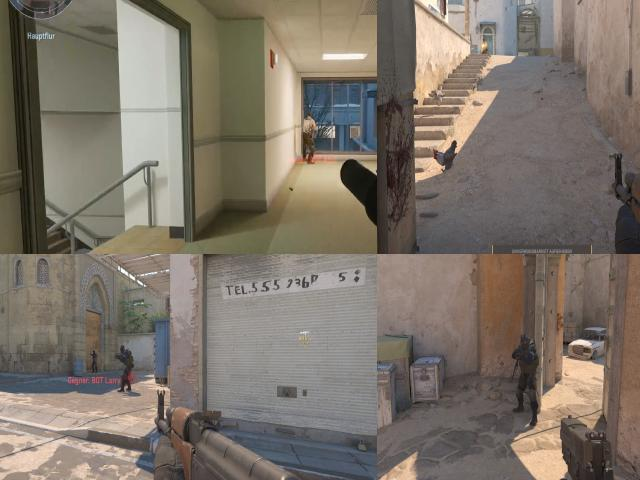CT: (516, 332, 536, 412), (118, 344, 134, 390), (92, 348, 98, 372)
CT-Head: (519, 334, 530, 350), (120, 345, 128, 354), (92, 349, 97, 355)
T: (299, 113, 318, 138), (482, 39, 487, 54)
T-Head: (305, 112, 314, 125), (483, 39, 485, 44)
